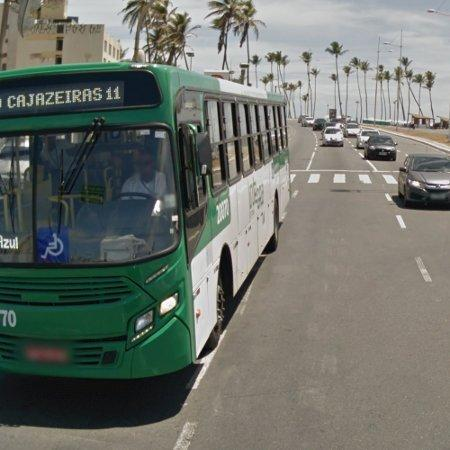buses: (0, 63, 290, 379)
